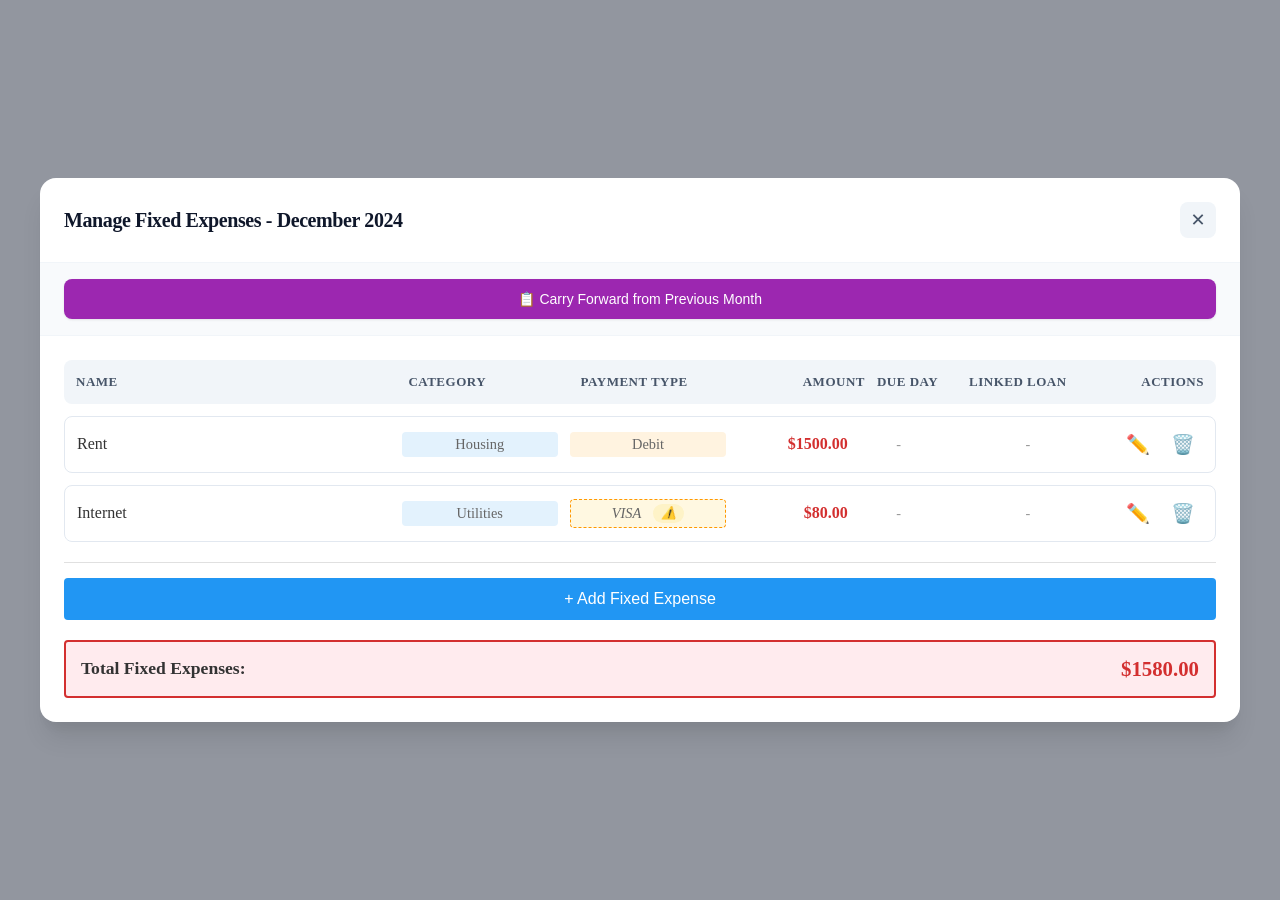
it: FixedExpensesModal › Add Fixed Expense › shows validation error for empty name
Click the button "+ Add Fixed Expense".
click(640, 599)  # box [64,578,1216,620]
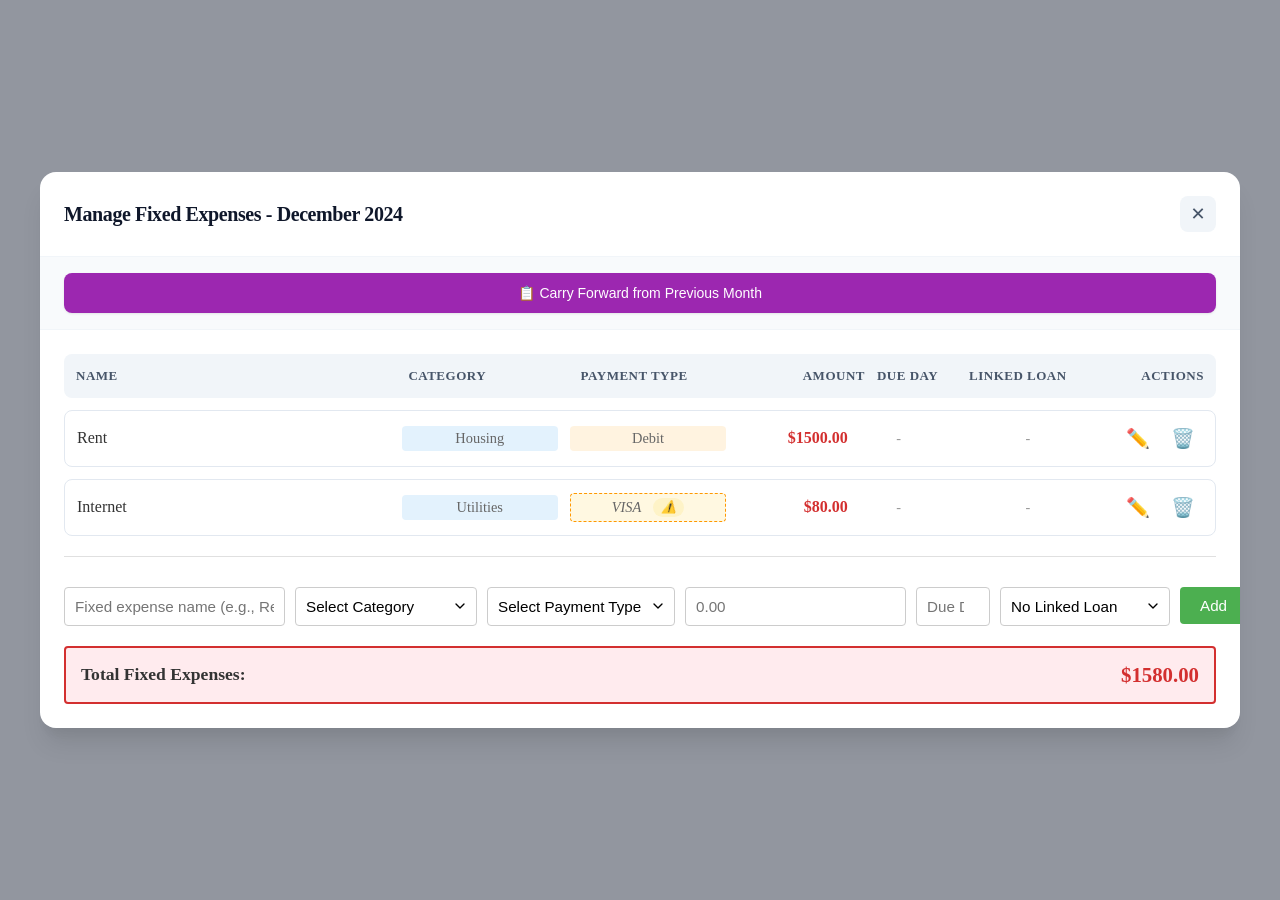
Click the button "Add".
click(1214, 605)  # box [1180,587,1247,624]
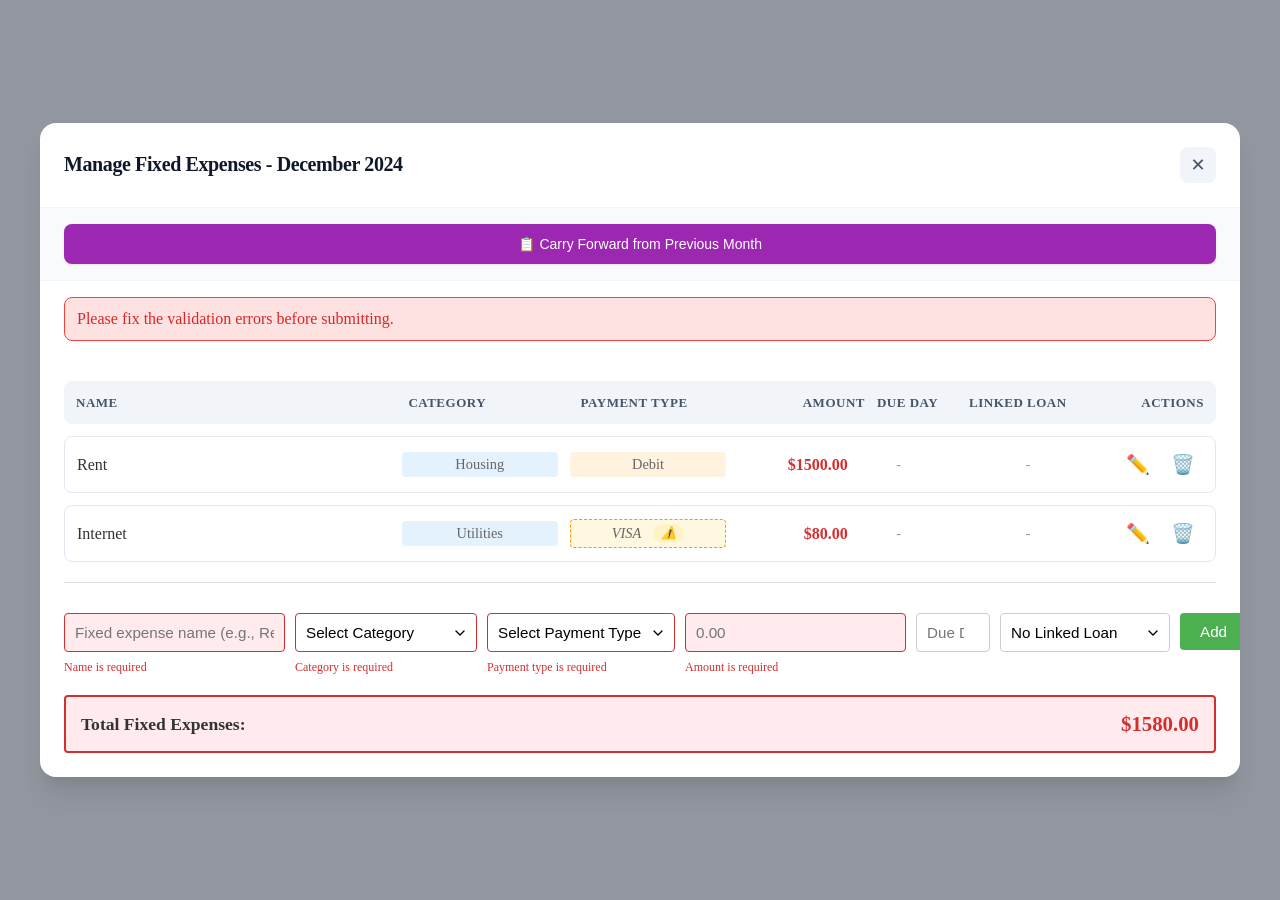
Now the text "Please fix the validation errors before submitting." is shown, box [77,310,394,327]
